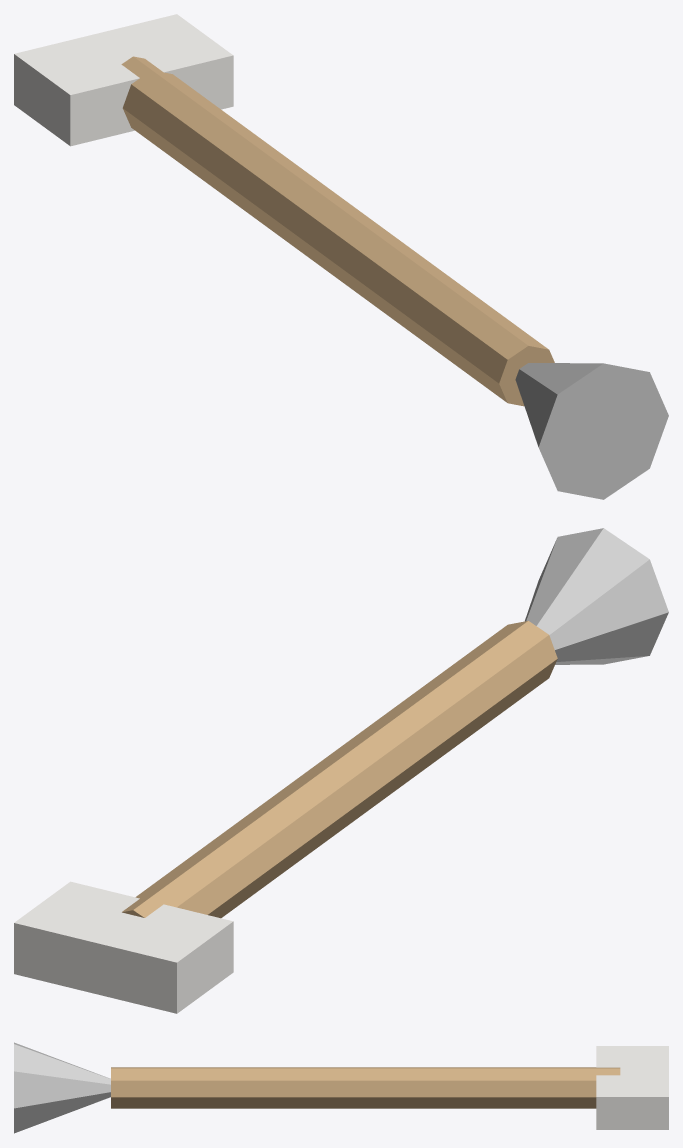
The model's file is SM_Proj_Arrow_01.glb.
3 renders of one model, top to bottom at view 1: azimuth 30°, elevation 25°; view 2: azimuth 150°, elevation 25°; view 3: azimuth 270°, elevation 25°, orthographic. The views are drawn at different scales.
Visible parts, largest first — view 1: SM_Arrow_Shaft, SM_Arrow_Feather, SM_Arrow_Tip; view 2: SM_Arrow_Shaft, SM_Arrow_Feather, SM_Arrow_Tip; view 3: SM_Arrow_Shaft, SM_Arrow_Feather, SM_Arrow_Tip.
Part boxes in pixels (x1=…): SM_Arrow_Shaft: x1=121, y1=56, x2=554, y2=406; SM_Arrow_Feather: x1=14, y1=14, x2=233, y2=146; SM_Arrow_Tip: x1=515, y1=363, x2=668, y2=499; SM_Arrow_Shaft: x1=122, y1=620, x2=557, y2=918; SM_Arrow_Feather: x1=14, y1=881, x2=233, y2=1013; SM_Arrow_Tip: x1=525, y1=528, x2=668, y2=664; SM_Arrow_Shaft: x1=111, y1=1067, x2=620, y2=1108; SM_Arrow_Feather: x1=596, y1=1046, x2=668, y2=1129; SM_Arrow_Tip: x1=14, y1=1042, x2=110, y2=1133.
Size of the model in its own units: 0.1 by 0.08 by 0.54.
